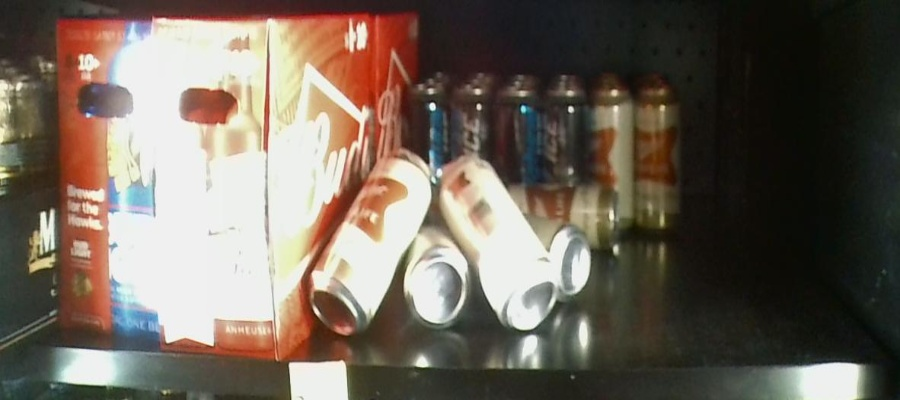bottle: (52, 12, 310, 368), (440, 160, 554, 327), (315, 154, 415, 321), (420, 76, 587, 173), (594, 77, 681, 244), (410, 237, 471, 357), (543, 204, 585, 314)
